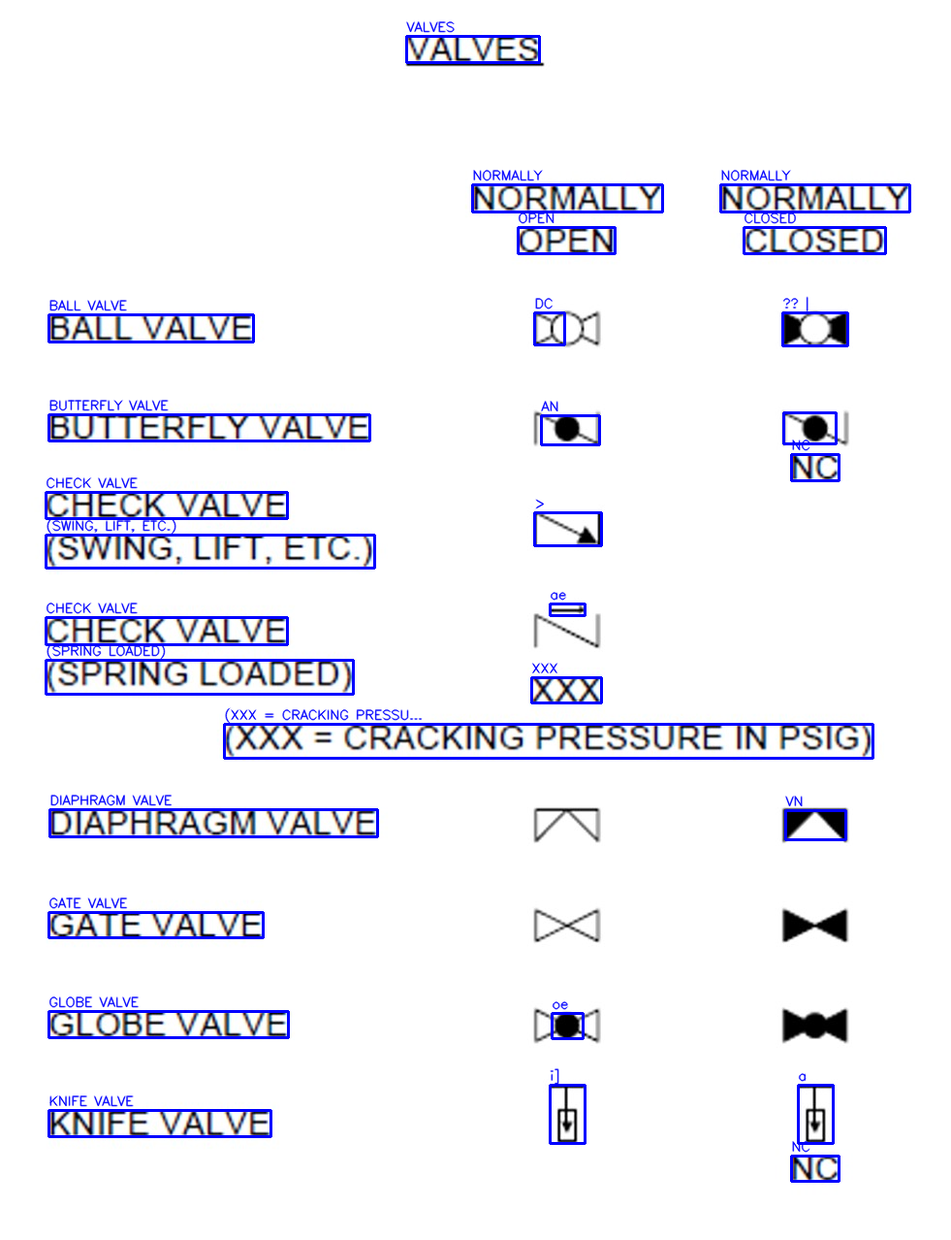Válvula: (525, 597, 607, 711), (782, 1076, 845, 1190), (774, 407, 853, 486), (530, 302, 606, 355), (525, 505, 608, 553), (774, 305, 855, 352), (525, 404, 606, 451), (528, 804, 609, 851), (528, 902, 607, 950), (773, 905, 856, 948), (530, 1003, 606, 1048), (778, 803, 855, 847), (778, 1003, 851, 1049), (548, 1076, 586, 1145)
